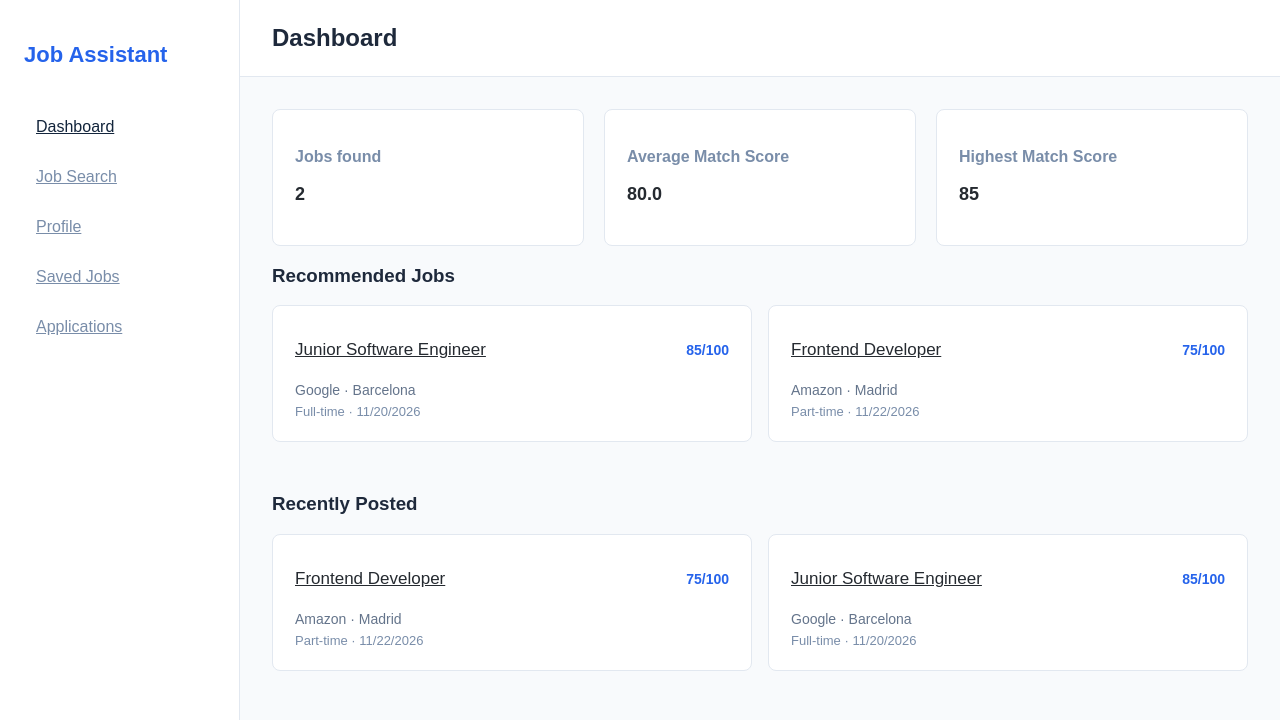
App › can navigate between all three pages
The width and height of the screenshot is (1280, 720).
Check: the heading "Recommended Jobs" is shown, box top-left (272, 265), bottom-right (455, 286)
What coordinates should you click on to do the following:
click the link "Job Search"
I would click on:
 (76, 177)
Its box is top-left (36, 168), bottom-right (117, 185).
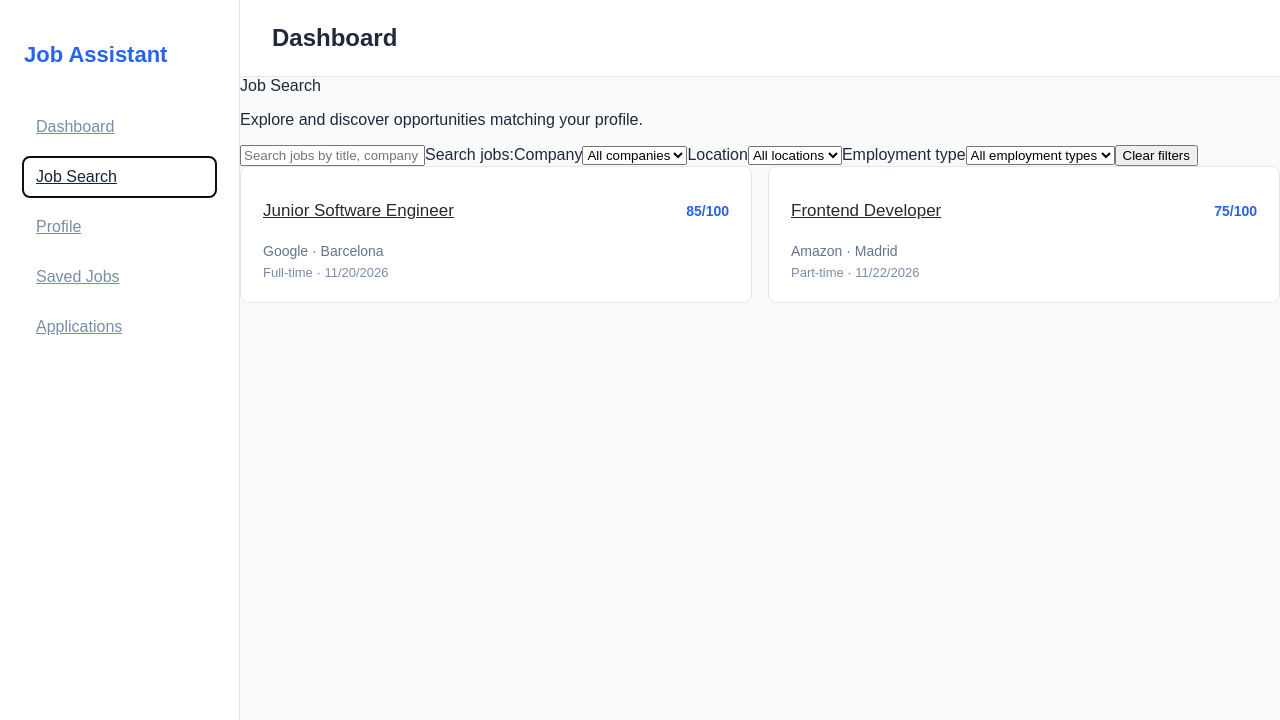
Check: the text "Explore and discover opportunities matching your profile." is shown, box top-left (240, 111), bottom-right (643, 128)
# Job Search → Profile
What coordinates should you click on to do the following:
click the link "Profile"
I would click on:
 (59, 227)
Its box is top-left (36, 218), bottom-right (81, 235).
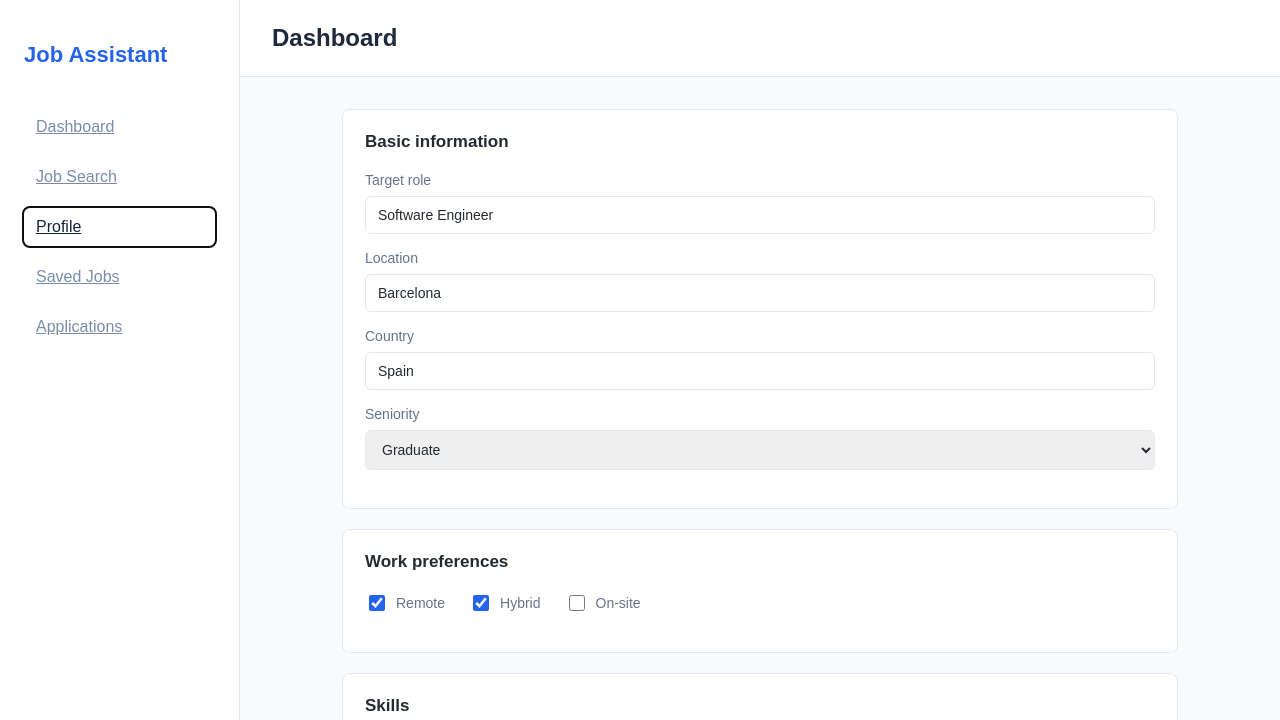
Check: the field showing "Software Engineer" is shown, box top-left (365, 196), bottom-right (1155, 234)
# Profile → Dashboard
What coordinates should you click on to do the following:
click the link "Dashboard"
I would click on:
 (75, 127)
Its box is top-left (36, 118), bottom-right (114, 135).
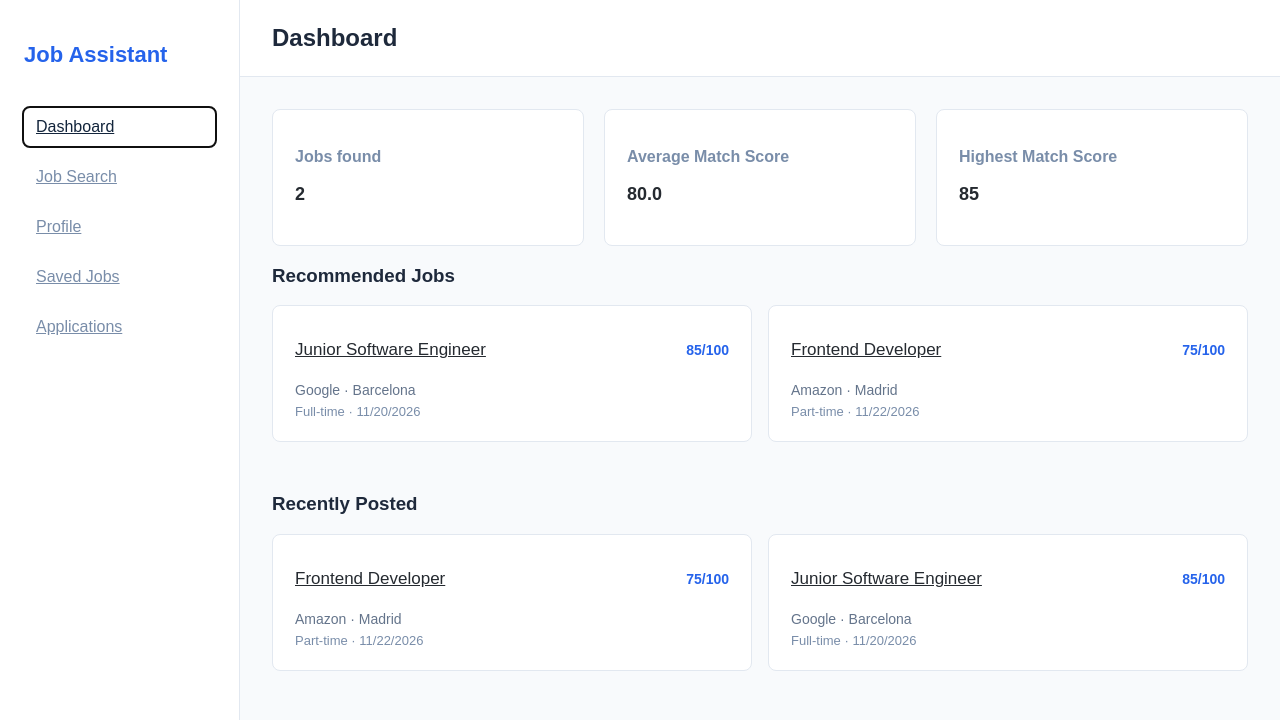
Check: the heading "Recommended Jobs" is shown, box top-left (272, 265), bottom-right (455, 286)
